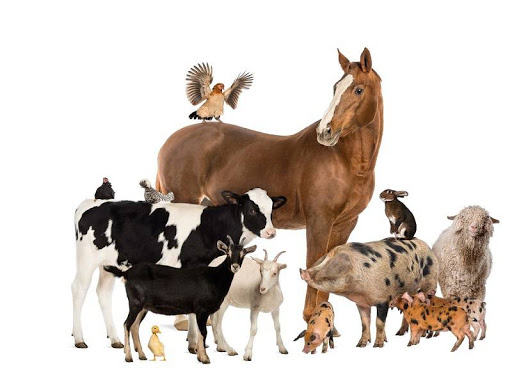cow: (66, 193, 289, 349)
goat: (98, 234, 253, 364), (231, 241, 299, 364)
horse: (153, 51, 388, 270)
lamb: (422, 202, 508, 316)
other bird: (175, 53, 257, 126)
pig: (305, 236, 421, 336)
rabbit: (373, 186, 429, 254)
